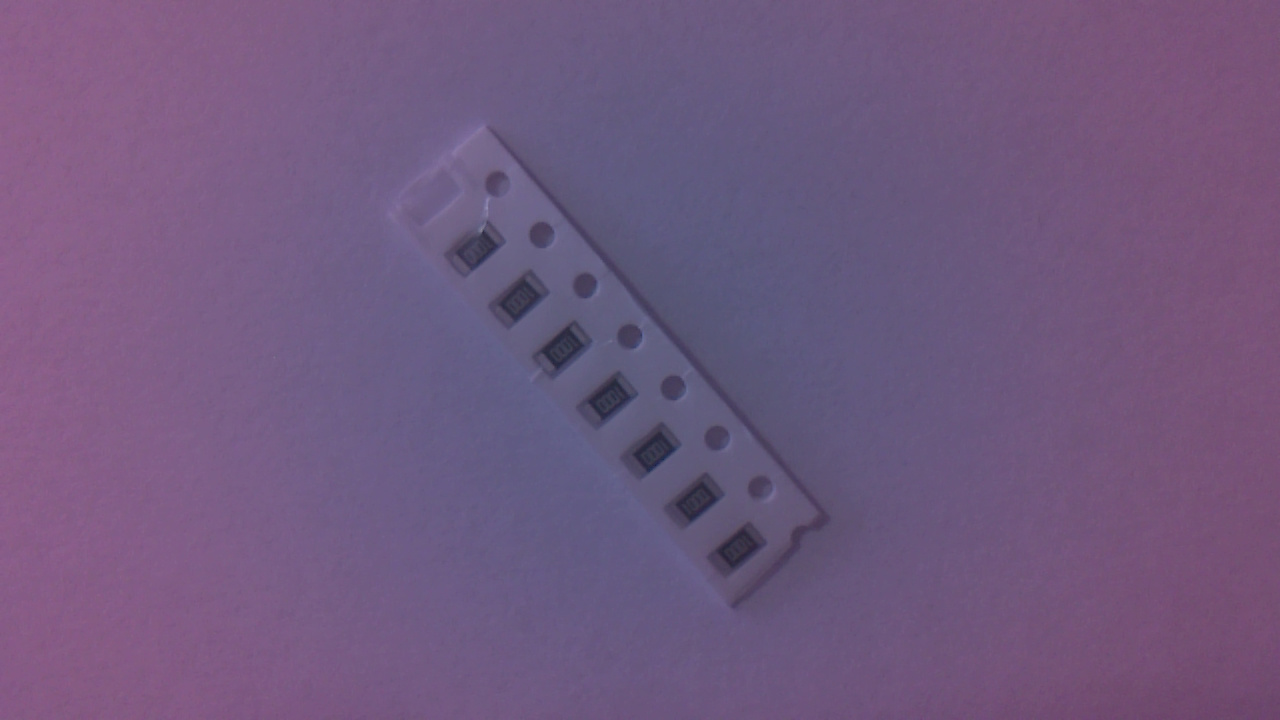Resistor: (449, 222, 512, 287), (628, 425, 688, 492), (584, 373, 644, 438), (541, 324, 599, 390), (714, 525, 775, 585), (672, 475, 730, 538), (495, 273, 554, 334)
